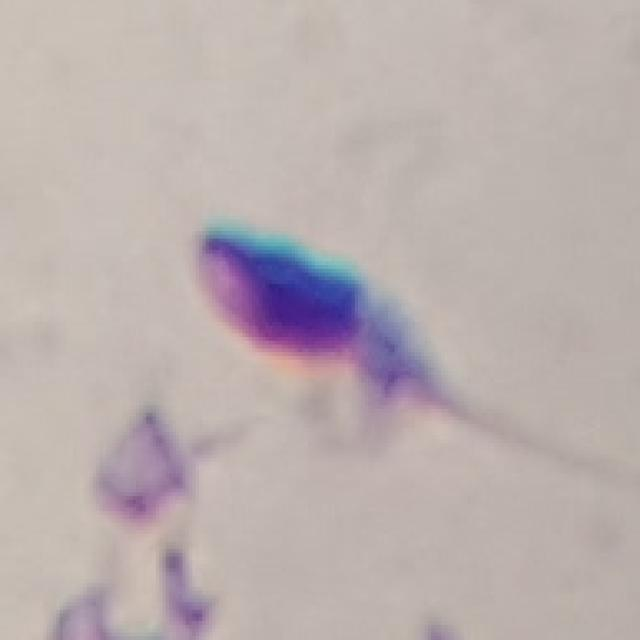abnormal sperm: (193, 223, 508, 443)
